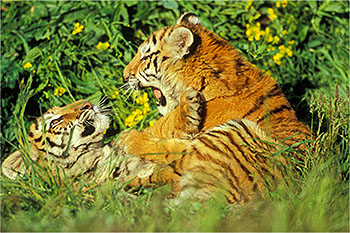Tigre: (122, 29, 265, 130), (1, 106, 116, 198)
